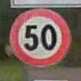limite 50: (7, 7, 71, 69)
